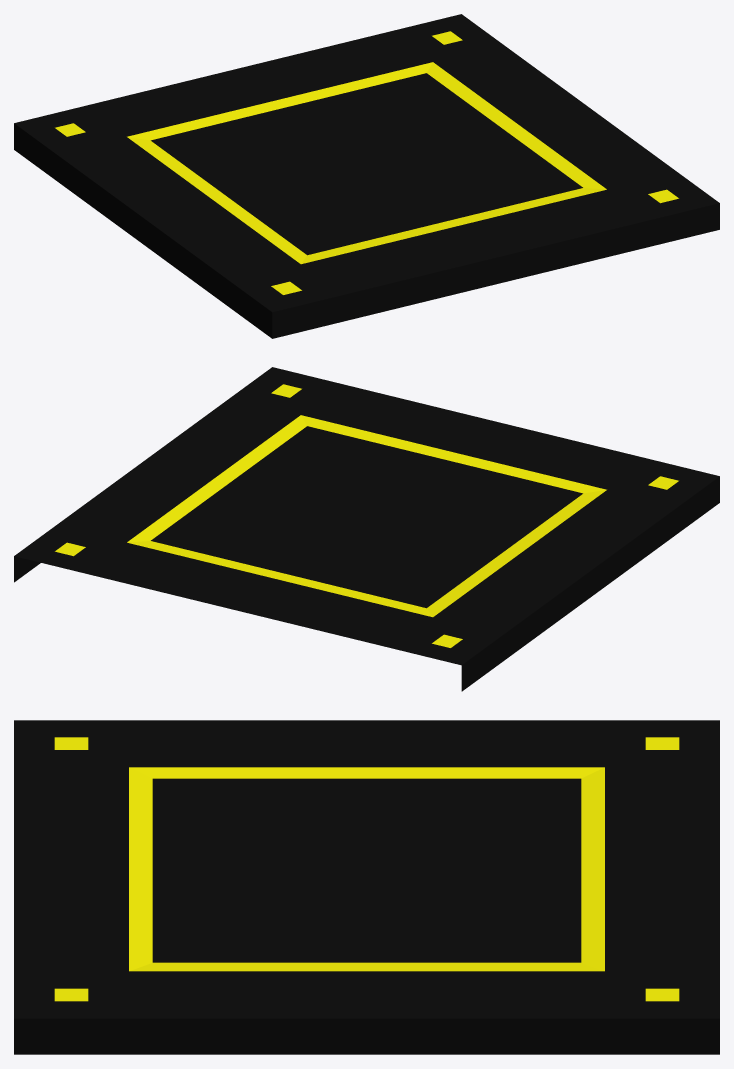
The model's file is floor1x1.fbx.
3 renders of one model, top to bottom at view 1: azimuth 30°, elevation 25°; view 2: azimuth 150°, elevation 25°; view 3: azimuth 270°, elevation 25°, orthographic. The views are drawn at different scales.
Visible parts, largest first — view 1: floor1x1; view 2: floor1x1; view 3: floor1x1.
Boxes of the visible parts, x1,y1,x2,y2 form: floor1x1: (14,14,719,338); floor1x1: (14,367,719,691); floor1x1: (14,720,719,1054).
Bounding box in the file's own units: 1 × 0.0567 × 1.
